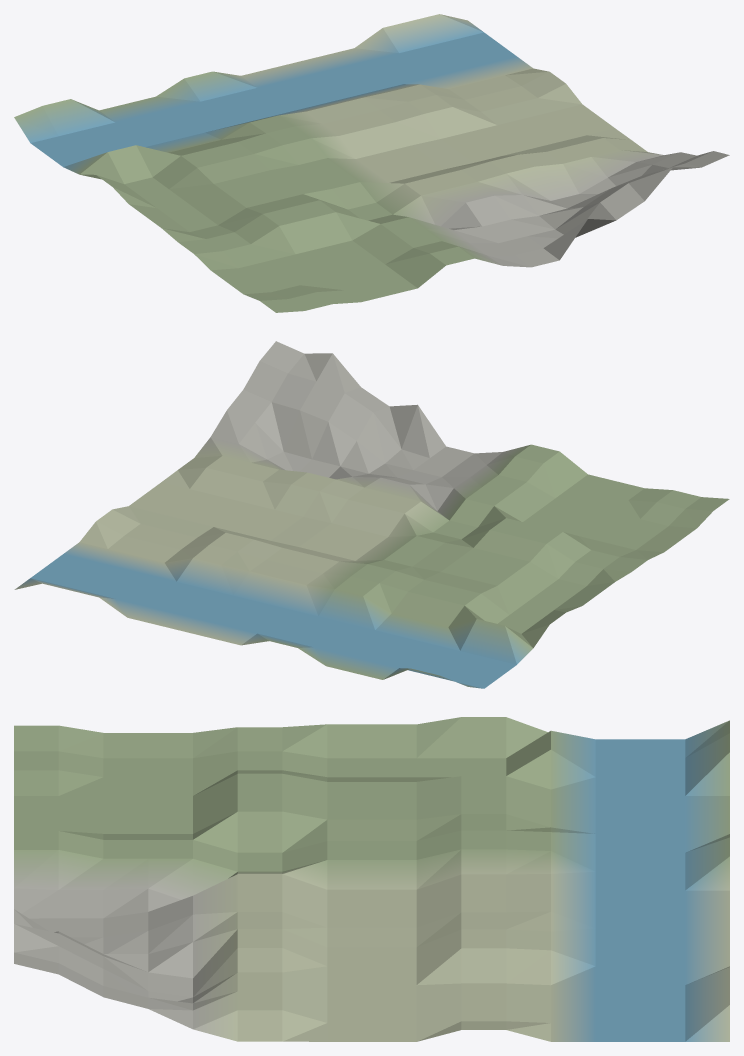
3 renders of one model, top to bottom at view 1: azimuth 30°, elevation 25°; view 2: azimuth 150°, elevation 25°; view 3: azimuth 270°, elevation 25°, orthographic. The views are drawn at different scales.
Bounding box in the file's own units: 32 × 4.62 × 32.
